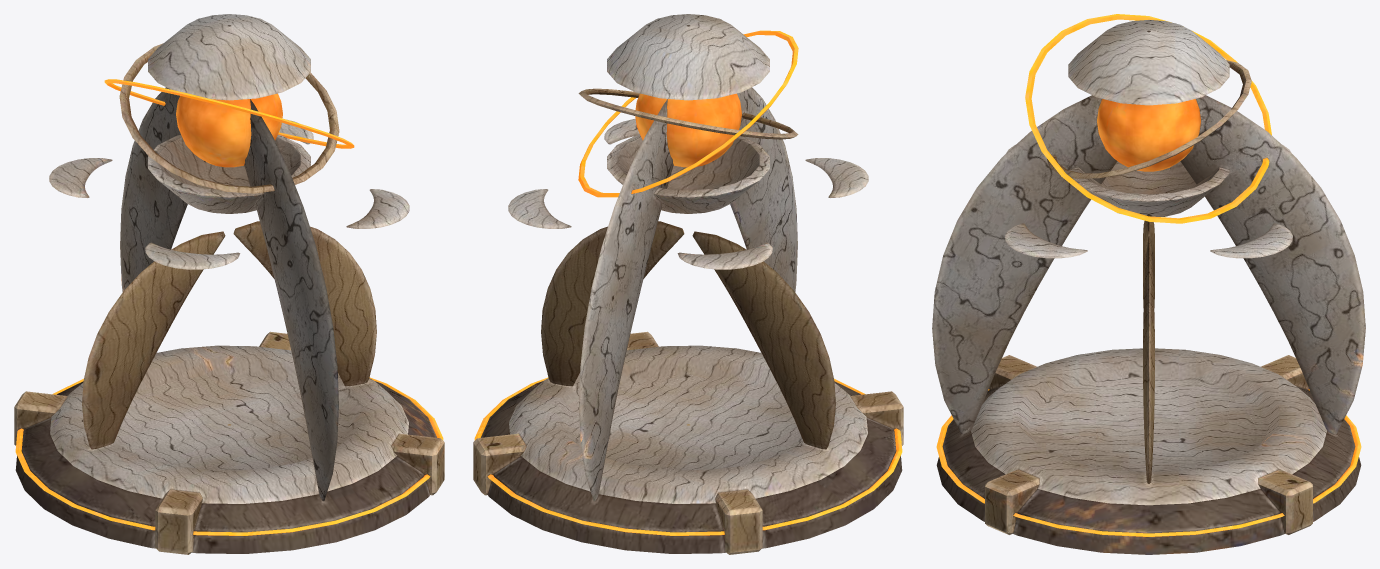
Rendered from kesh_seer_spire.glb.
3 views of the same model, side by side, from view 1: azimuth 30°, elevation 25°; view 2: azimuth 150°, elevation 25°; view 3: azimuth 270°, elevation 25° (orthographic).
Parts seen in each view (by area): view 1: Base, Horns, Turret; view 2: Base, Horns, Turret; view 3: Base, Horns, Turret.
Boxes of the visible parts, x1,y1,x2,y2 form: Base: (14,331,444,554); Horns: (82,87,376,501); Turret: (49,14,409,269); Base: (473,331,903,554); Horns: (541,87,835,501); Turret: (508,14,868,269); Base: (936,348,1361,554); Horns: (932,95,1365,483); Turret: (1005,14,1292,258).
Size of the model in its own units: 4.4 by 4.98 by 4.5.
Materials: 1 (1 with a texture image).
